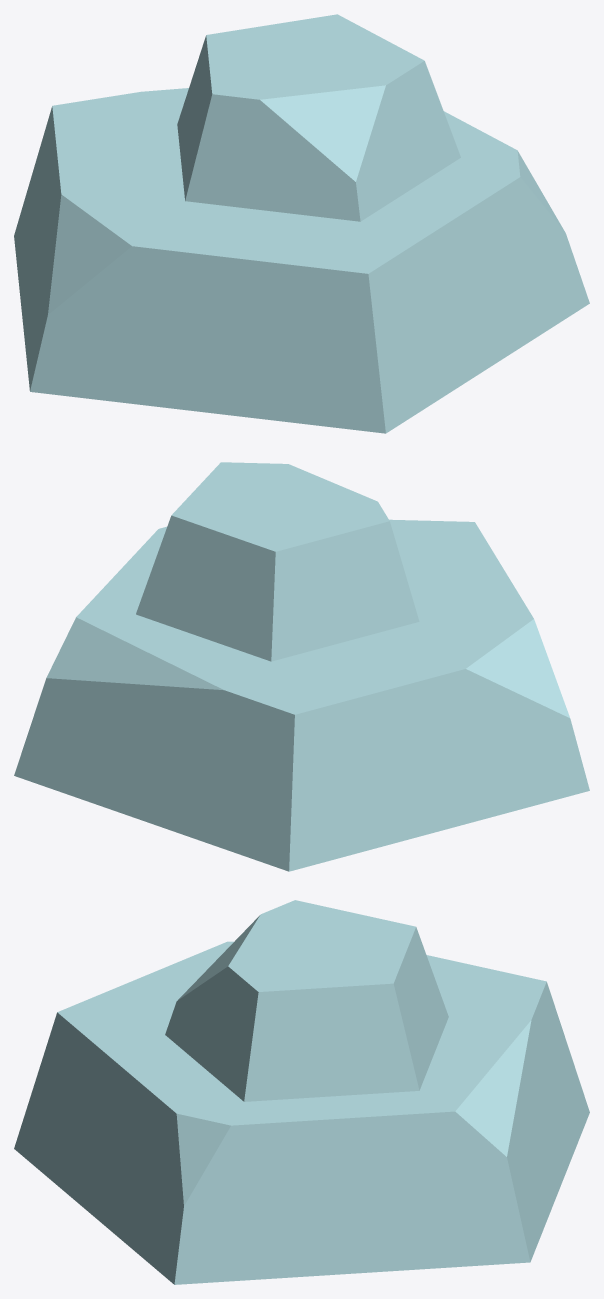
Rendered from stone_smallTopA.glb.
3 renders of one model, top to bottom at view 1: azimuth 30°, elevation 25°; view 2: azimuth 150°, elevation 25°; view 3: azimuth 270°, elevation 25°, orthographic. The views are drawn at different scales.
Visible parts, largest first — view 1: stone_smallTopA; view 2: stone_smallTopA; view 3: stone_smallTopA.
Part boxes in pixels (<box>): stone_smallTopA: <box>14,14,589,433</box>; stone_smallTopA: <box>14,462,589,871</box>; stone_smallTopA: <box>14,900,589,1284</box>.
Bounding box in the file's own units: 0.4877 × 0.22 × 0.4891.
